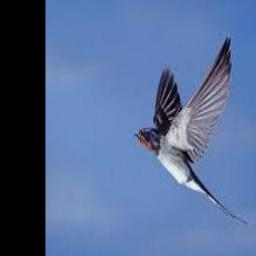Swallow: (135, 36, 248, 224)
